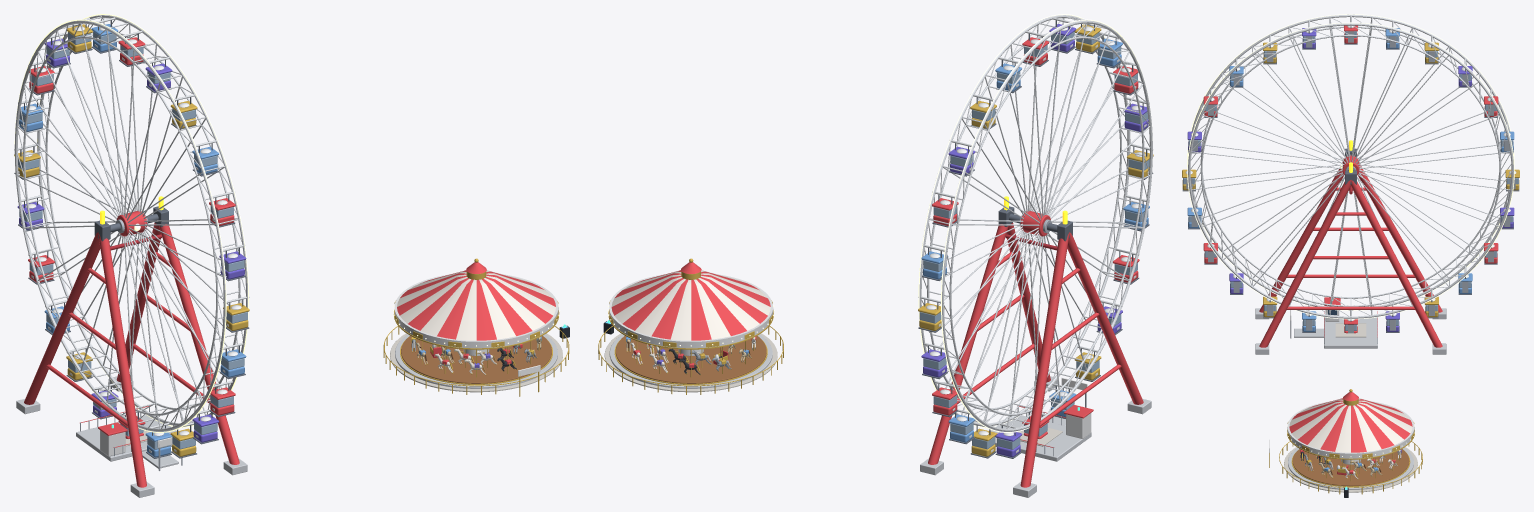
File: rides.glb
The picture shows the model from 3 angles, left to right: view 1: azimuth 30°, elevation 25°; view 2: azimuth 150°, elevation 25°; view 3: azimuth 270°, elevation 25°; orthographic projection. The views are drawn at different scales.
Visible parts, largest first — view 1: ferris_wheel_frame, carousel_deck, ferris_towers, carousel_base, ferris_base, gondola_05, gondola_06, gondola_04, gondola_03, gondola_07, gondola_08, gondola_09 (+2 smaller); view 2: ferris_wheel_frame, carousel_deck, ferris_towers, ferris_base, carousel_base, gondola_21, gondola_20, gondola_22, gondola_19, gondola_23, gondola_24, gondola_18 (+5 smaller); view 3: ferris_wheel_frame, carousel_deck, ferris_towers, ferris_base, carousel_base.
Part boxes in pixels (<box>): ferris_wheel_frame: <box>14,14,248,432</box>; carousel_deck: <box>392,258,560,384</box>; ferris_towers: <box>16,196,247,497</box>; carousel_base: <box>383,325,569,396</box>; ferris_base: <box>76,405,182,470</box>; gondola_05: <box>209,381,235,417</box>; gondola_06: <box>219,343,246,379</box>; gondola_04: <box>192,409,219,444</box>; gondola_03: <box>170,422,196,458</box>; gondola_07: <box>223,296,249,332</box>; gondola_08: <box>219,245,246,281</box>; gondola_09: <box>209,191,235,227</box>; ferris_wheel_frame: <box>918,14,1152,432</box>; carousel_deck: <box>607,258,774,384</box>; ferris_towers: <box>920,196,1151,497</box>; ferris_base: <box>991,377,1093,461</box>; carousel_base: <box>598,321,783,394</box>; gondola_21: <box>932,381,958,417</box>; gondola_20: <box>921,343,947,379</box>; gondola_22: <box>948,409,975,444</box>; gondola_19: <box>918,296,944,332</box>; gondola_23: <box>970,422,996,458</box>; gondola_24: <box>995,422,1022,458</box>; gondola_18: <box>921,245,948,280</box>; ferris_wheel_frame: <box>1187,14,1514,319</box>; carousel_deck: <box>1286,389,1415,486</box>; ferris_towers: <box>1255,140,1446,354</box>; ferris_base: <box>1290,297,1377,348</box>; carousel_base: <box>1269,439,1422,497</box>.
Size of the model in its own units: 56.65 by 45.34 by 43.85.
